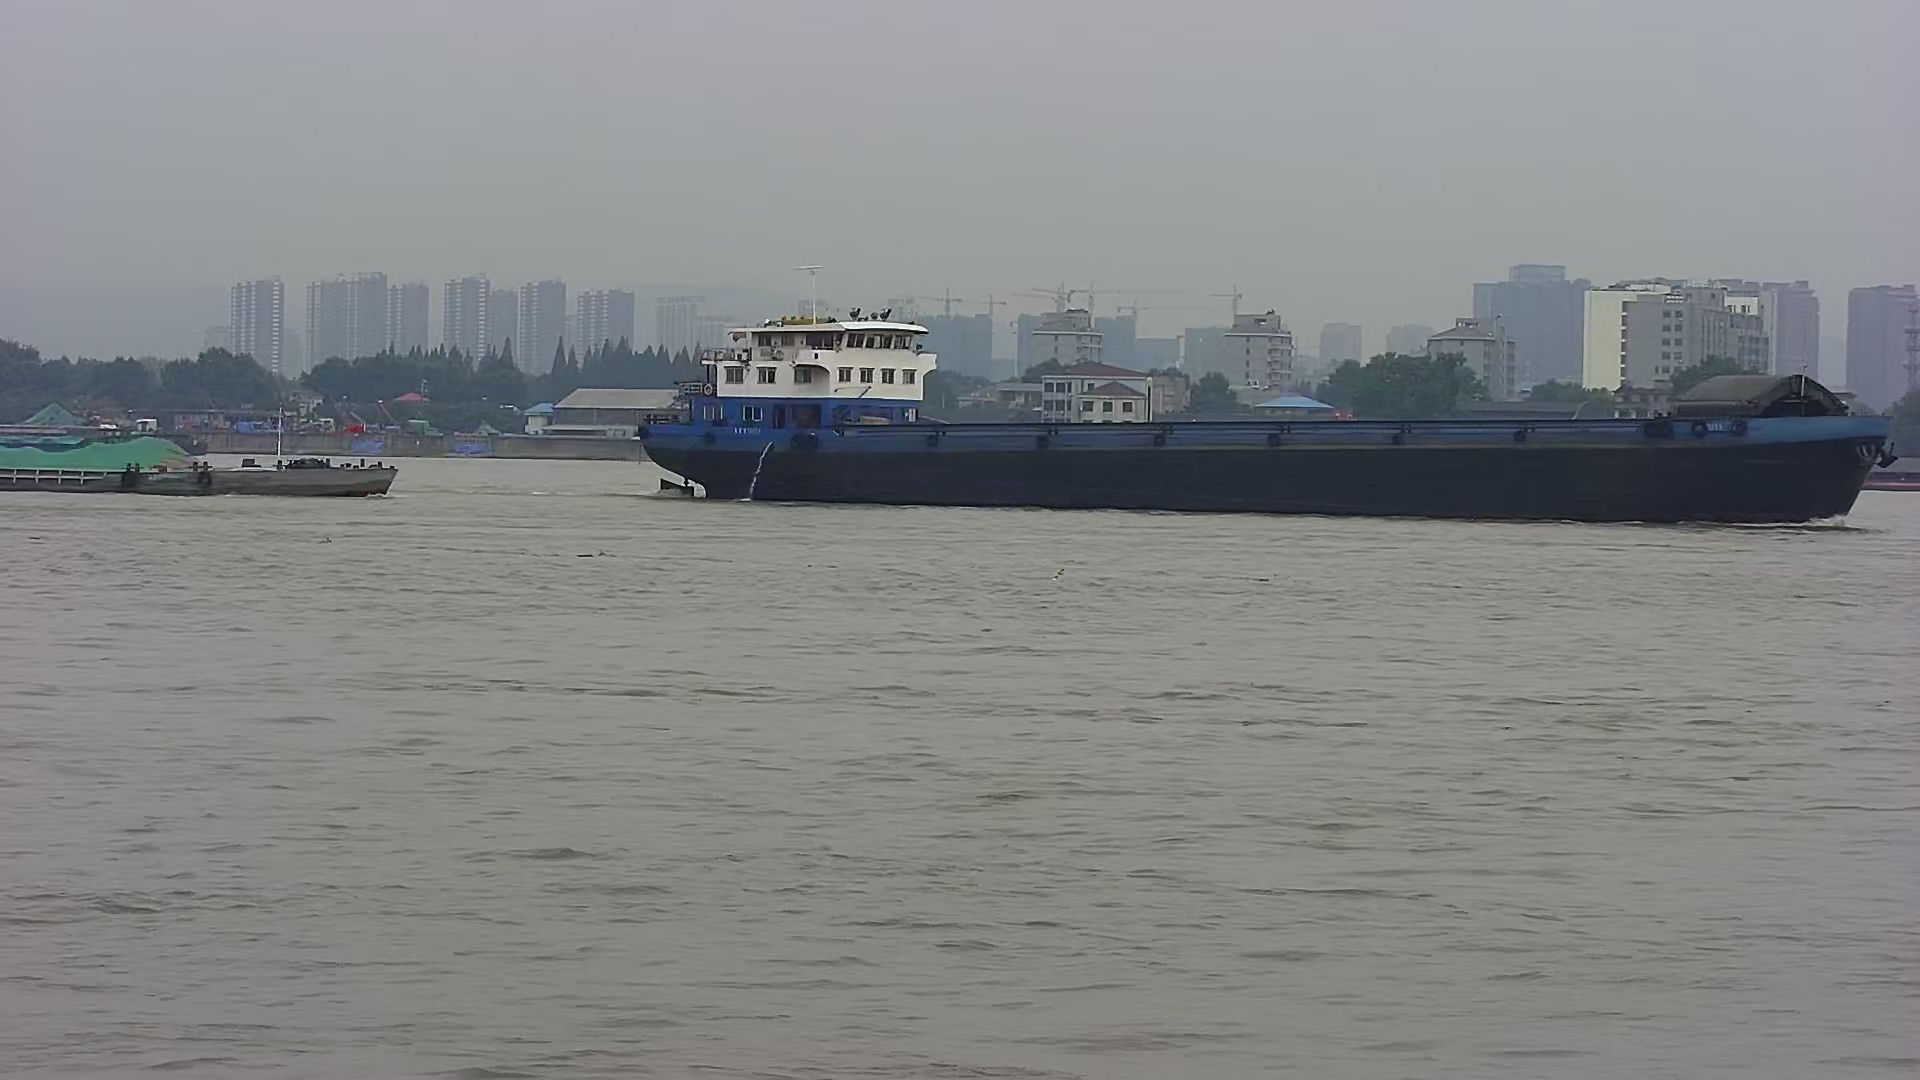boat: (102, 431, 404, 496)
ship: (634, 302, 1900, 535)
